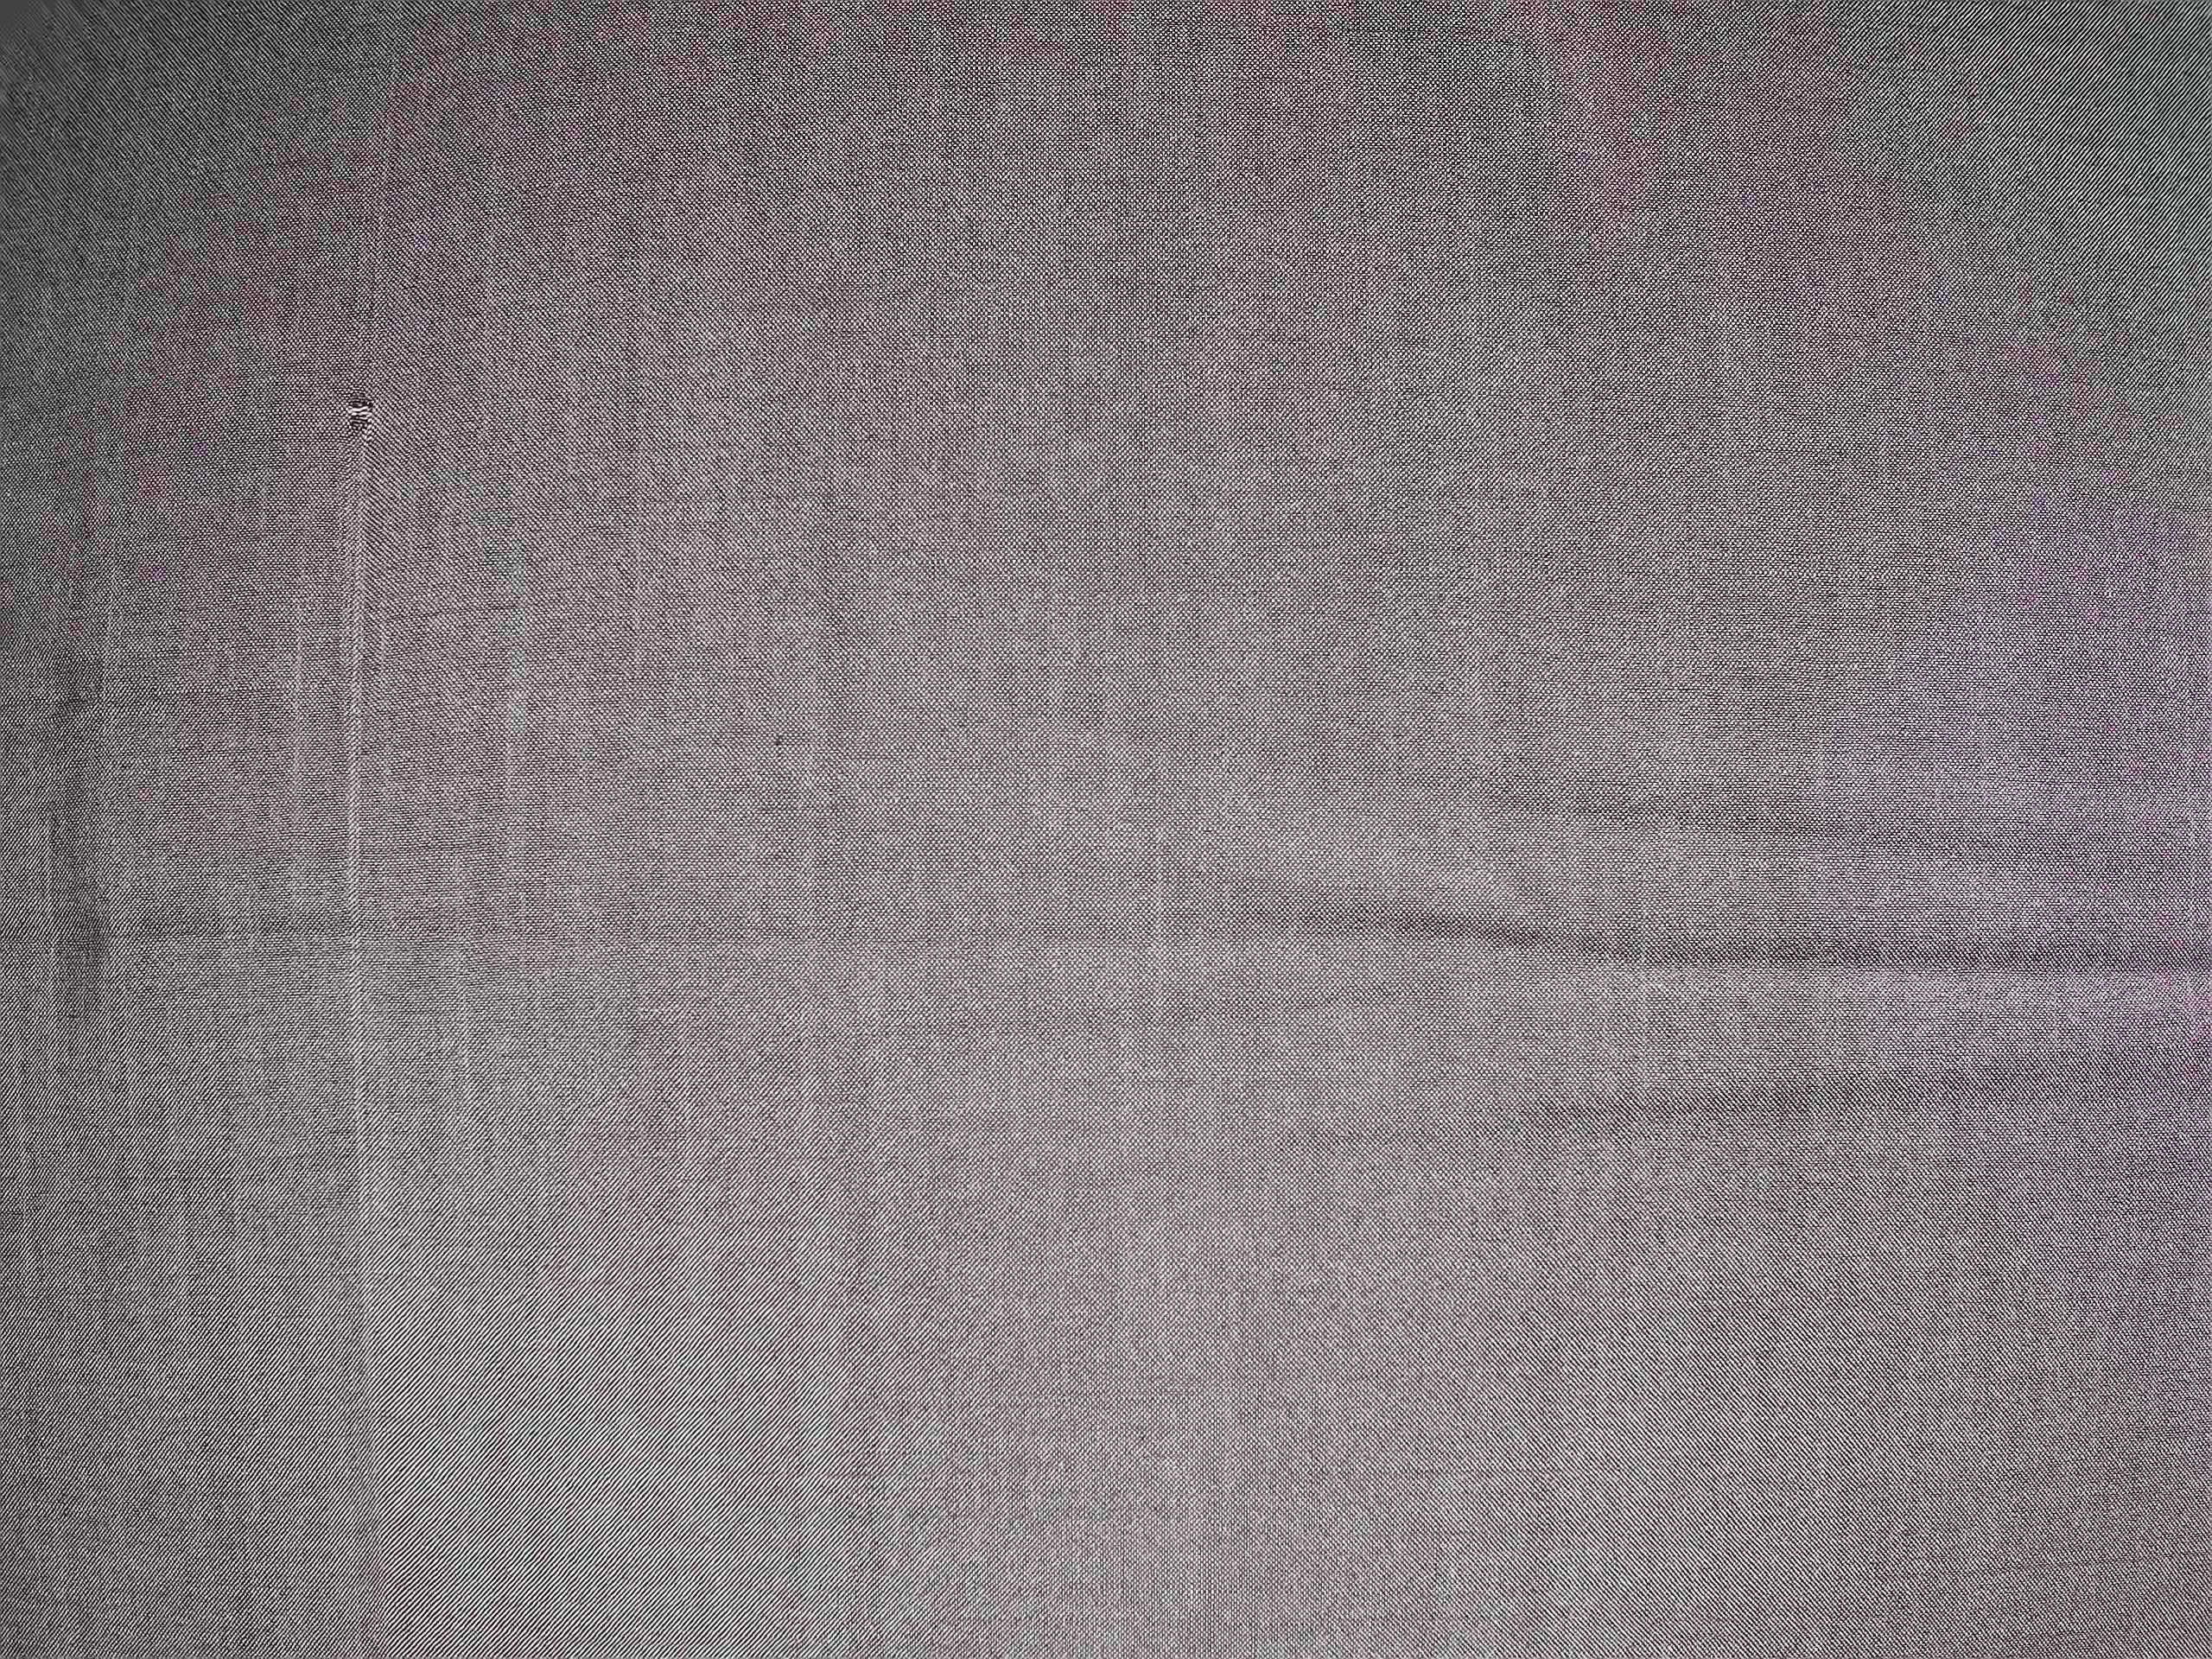hanging-warp: (326, 359, 388, 1293)
